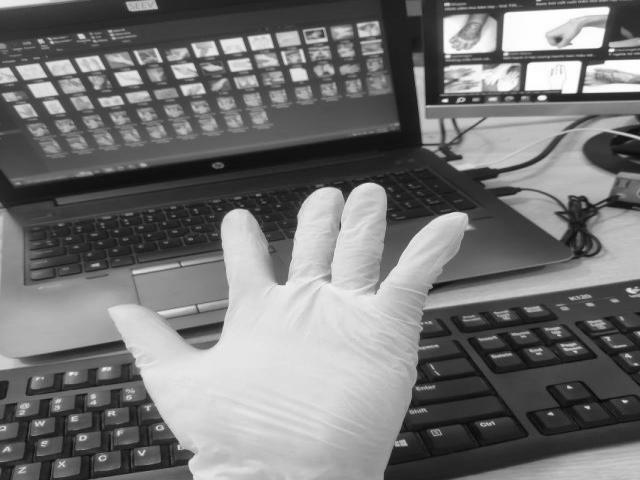gloved: (106, 181, 461, 480)
